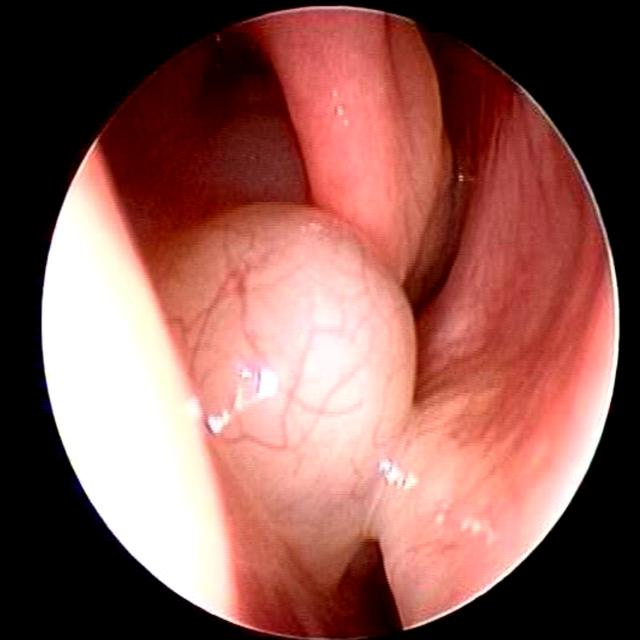OPENING: (94, 19, 338, 259)
POLYPS: (165, 204, 427, 589)
